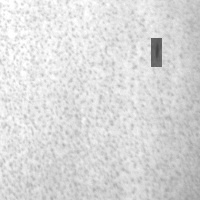inclusion: (151, 38, 162, 67)
pitted_surface: (1, 1, 199, 200)
